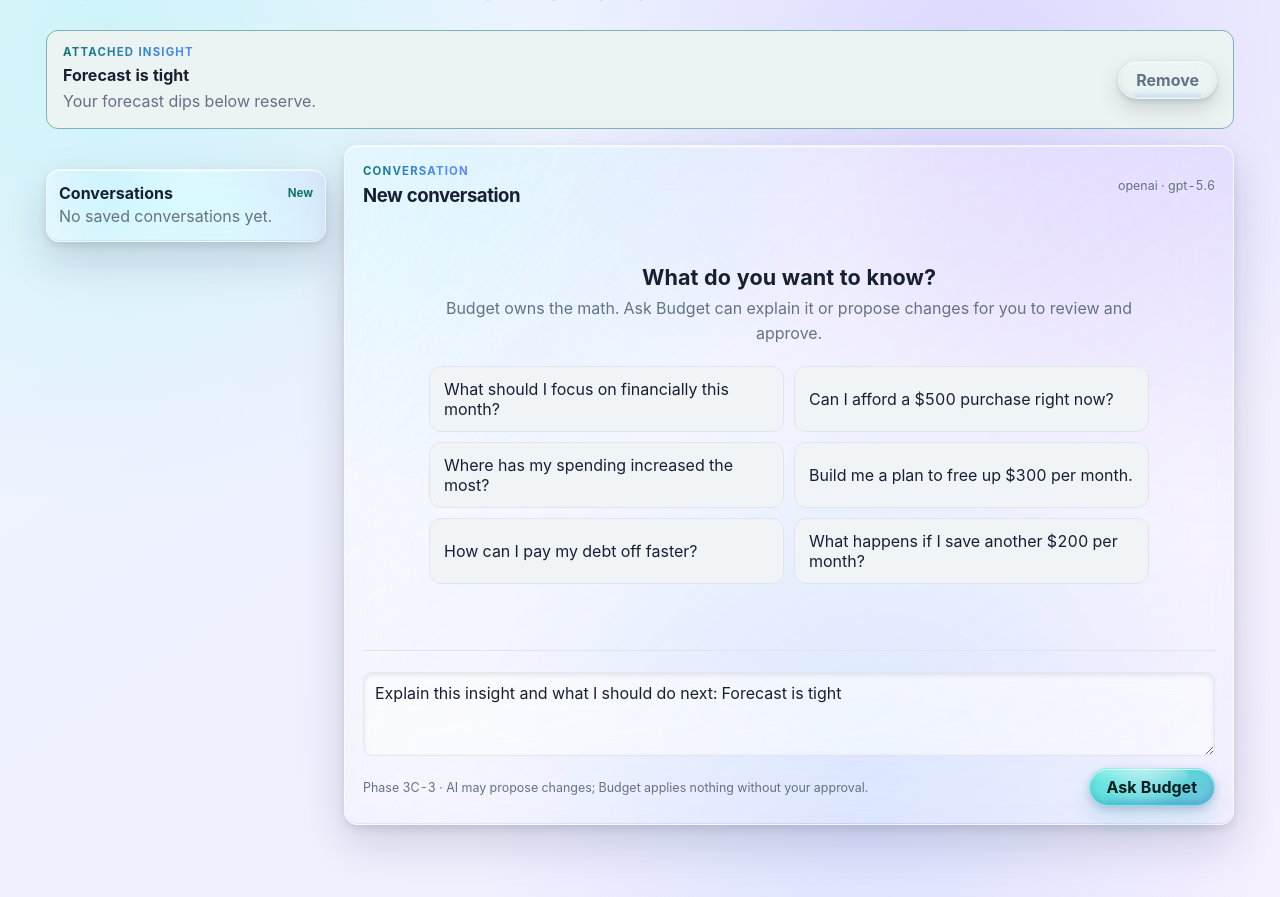
Scenario: AdvisorPage › sends an attached insight only with the next prompt
(page scrolled)
Check: the text "Forecast is tight" is shown, box [63,65,189,85]
Click the button "Ask Budget": (1152, 787) [1089,768,1215,806]
(page scrolled)
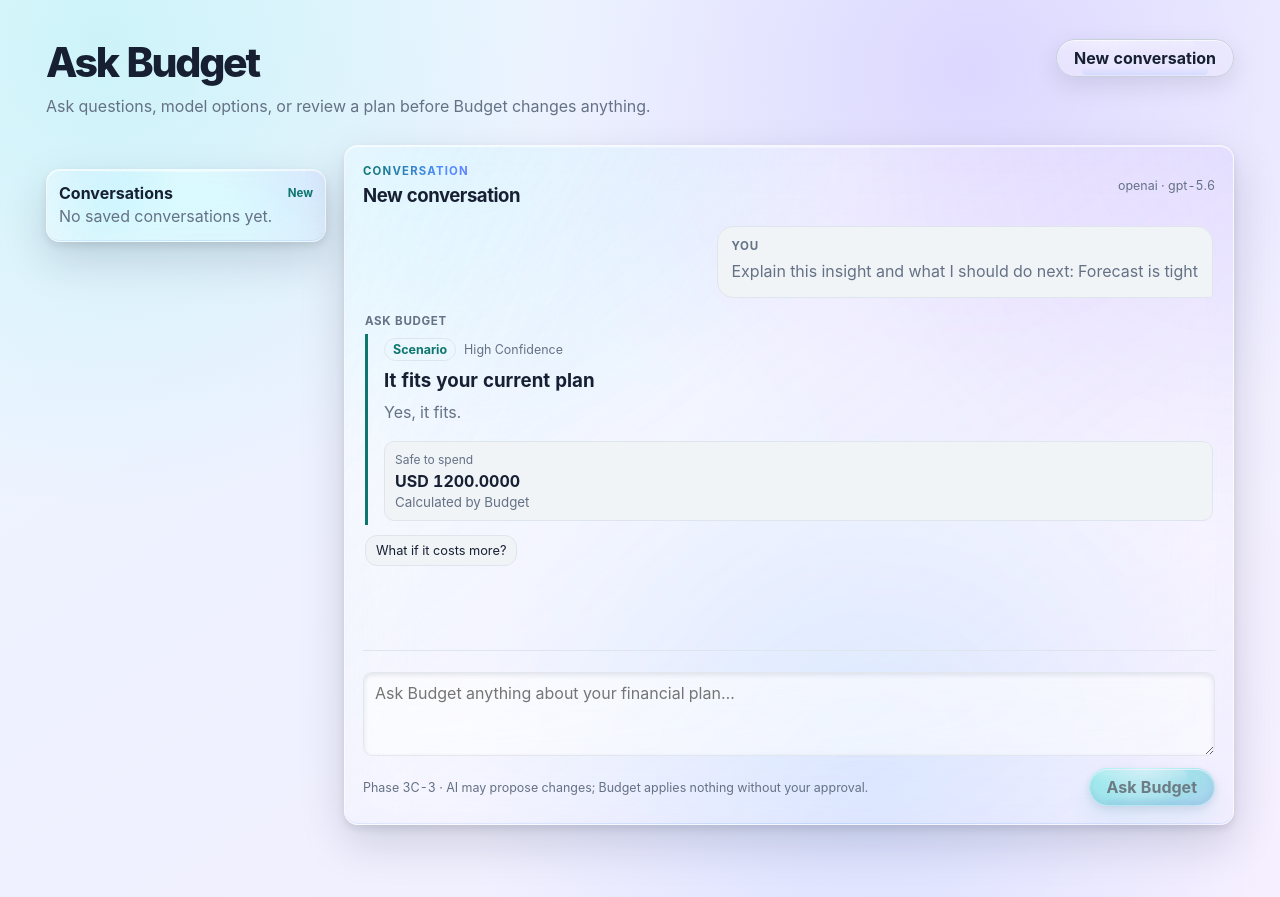
Check: the text "Attached insight" is gone
